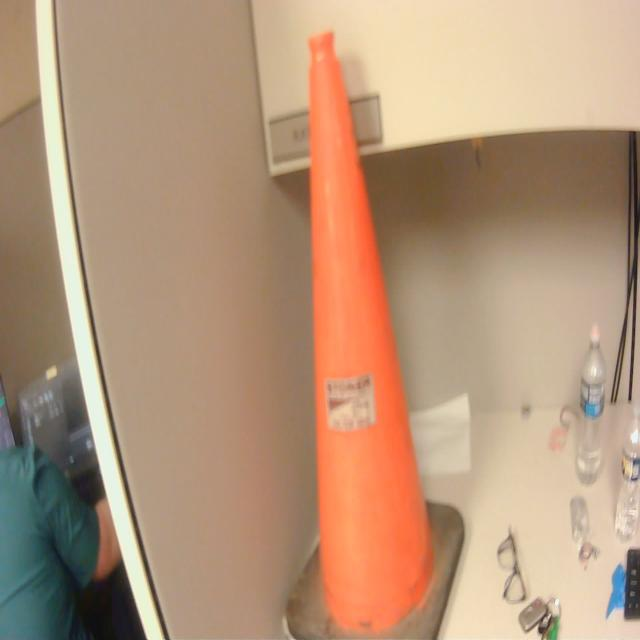traffic cone: (281, 21, 473, 640)
